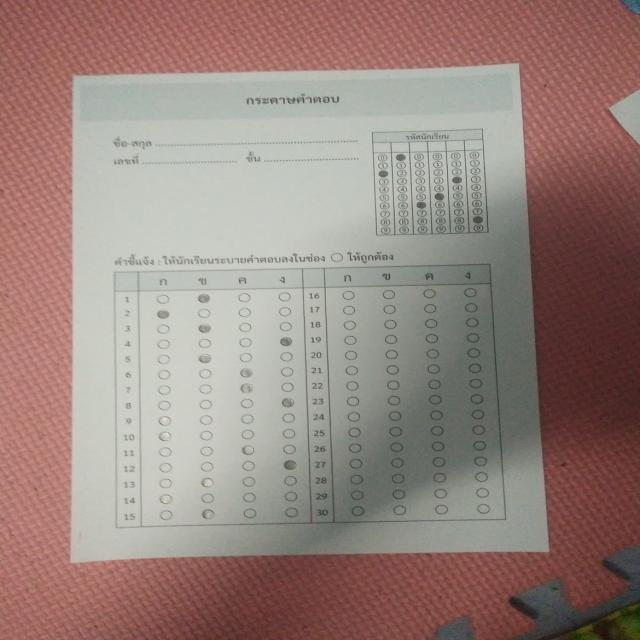Choice: (106, 260, 514, 538)
ID: (364, 126, 494, 237)
